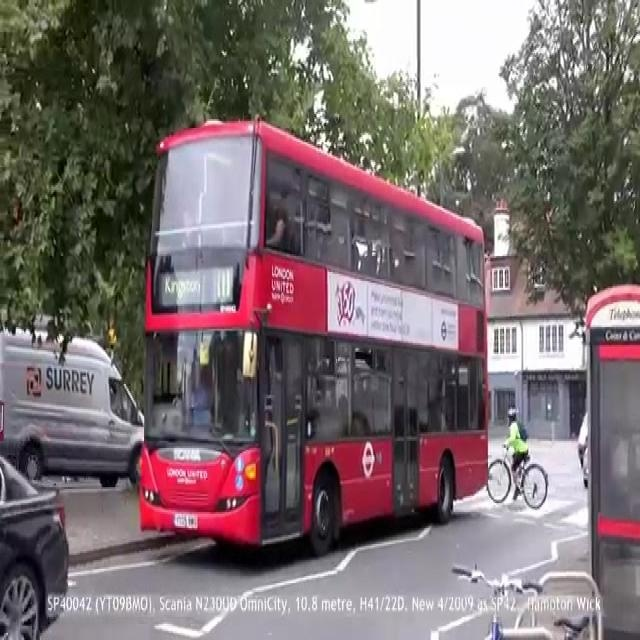Bus: (115, 105, 512, 569)
